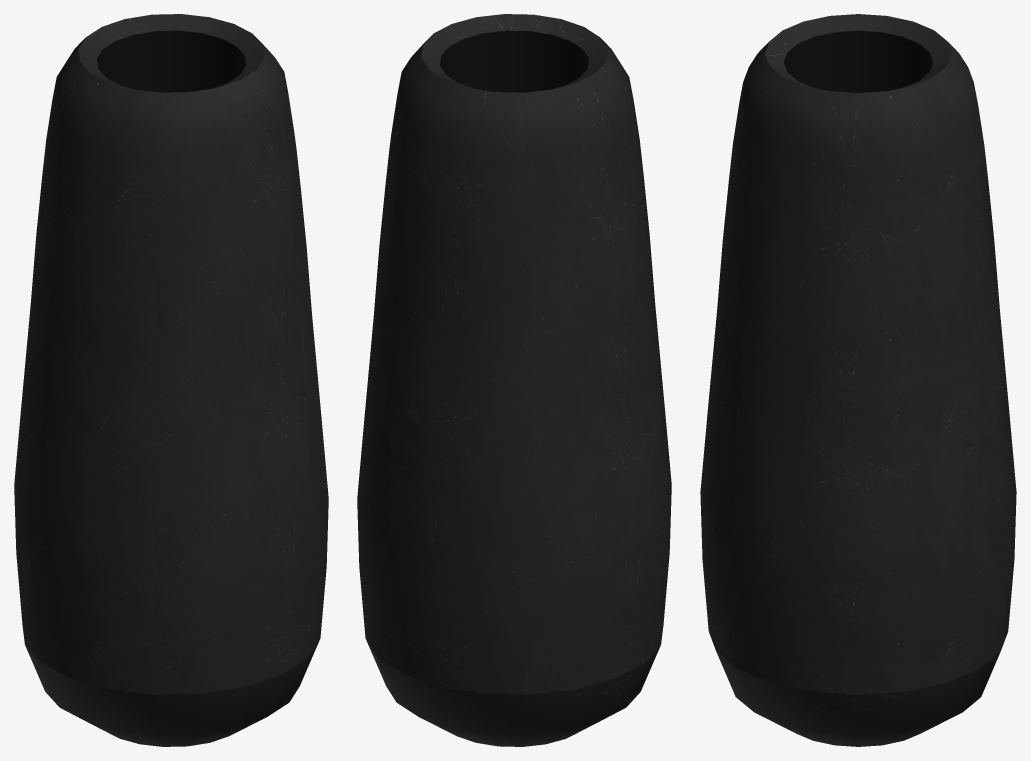
File: CannonTop.fbx
3 renders of one model, left to right at view 1: azimuth 30°, elevation 25°; view 2: azimuth 150°, elevation 25°; view 3: azimuth 270°, elevation 25°, orthographic.
Parts seen in each view (by area): view 1: pCylinder1; view 2: pCylinder1; view 3: pCylinder1.
Boxes of the visible parts, <box> form: pCylinder1: <box>14,14,328,746</box>; pCylinder1: <box>357,14,671,746</box>; pCylinder1: <box>700,14,1016,746</box>.
Size of the model in its own units: 21.1 by 50 by 21.1.
1 material, 1 textured.
